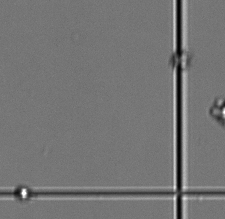Living Cell: (14, 186, 32, 201)
